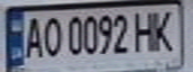0: (63, 12, 84, 56), (81, 11, 97, 55)
2: (112, 10, 133, 54)
9: (96, 11, 115, 55)
A: (21, 14, 45, 58)
H: (130, 8, 160, 53)
K: (148, 7, 178, 52)
O: (39, 14, 63, 58)
